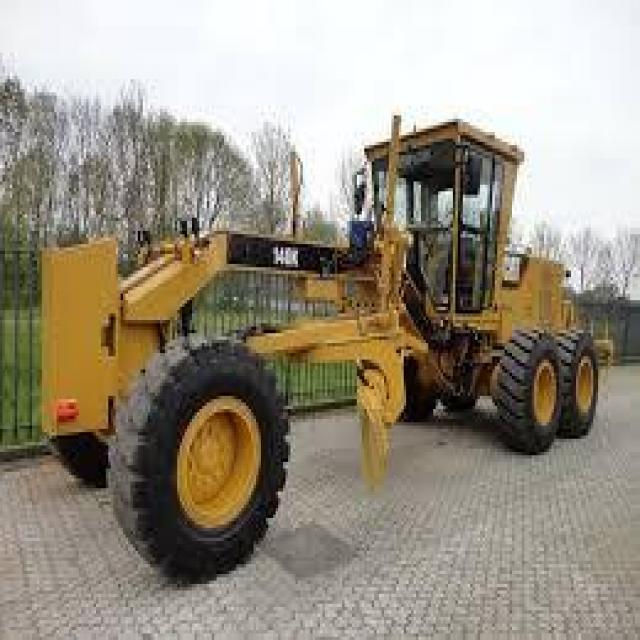Grader: (32, 92, 606, 580)
